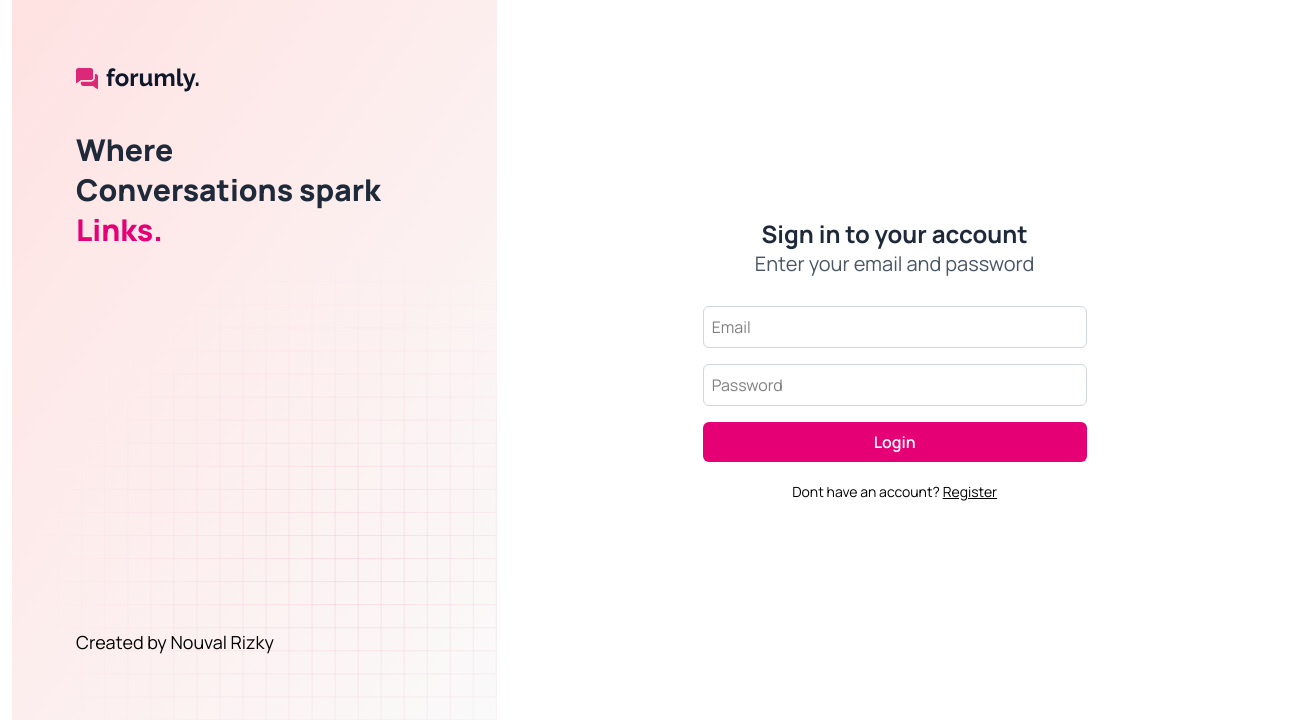
Test: Login spec › should display error message when email format is not valid
The image size is (1292, 720).
Step 1. Type "not valid mail" into the field with placeholder "Email" → point(895, 327), box [703,306,1087,348]
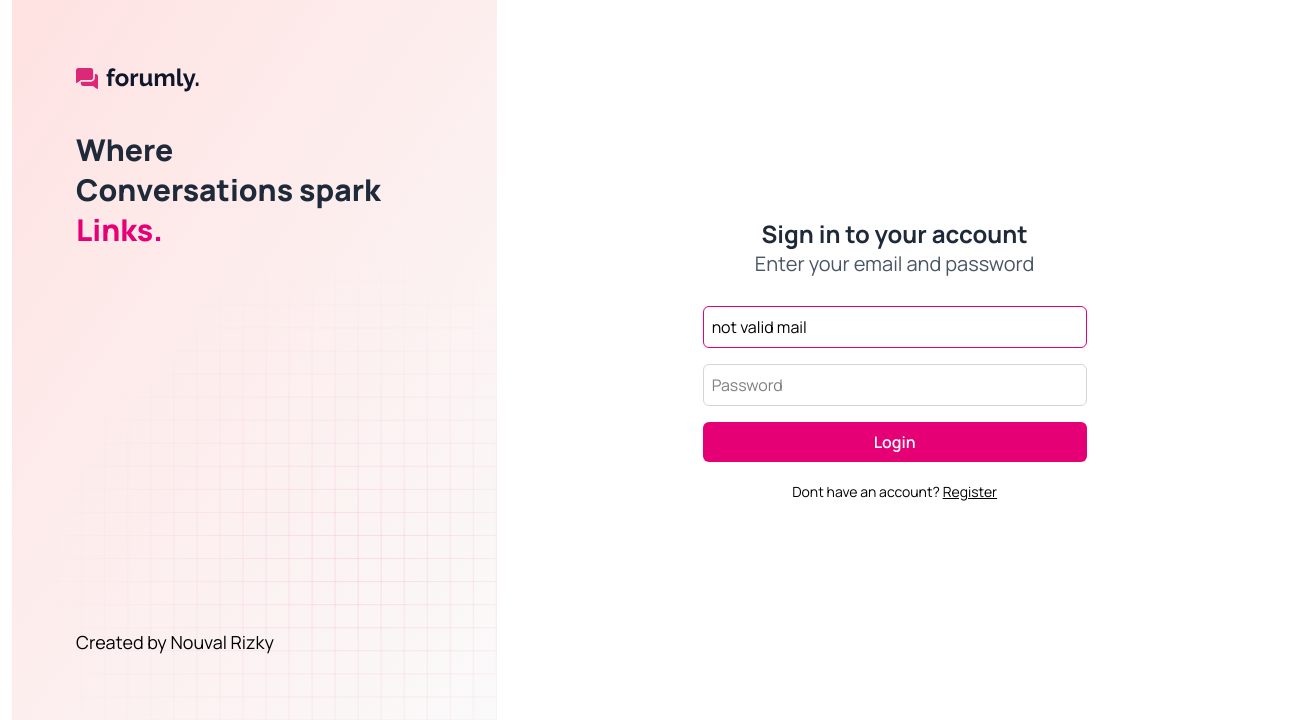
Step 2. Click the button "Login" → point(895, 442), box [703,422,1087,462]
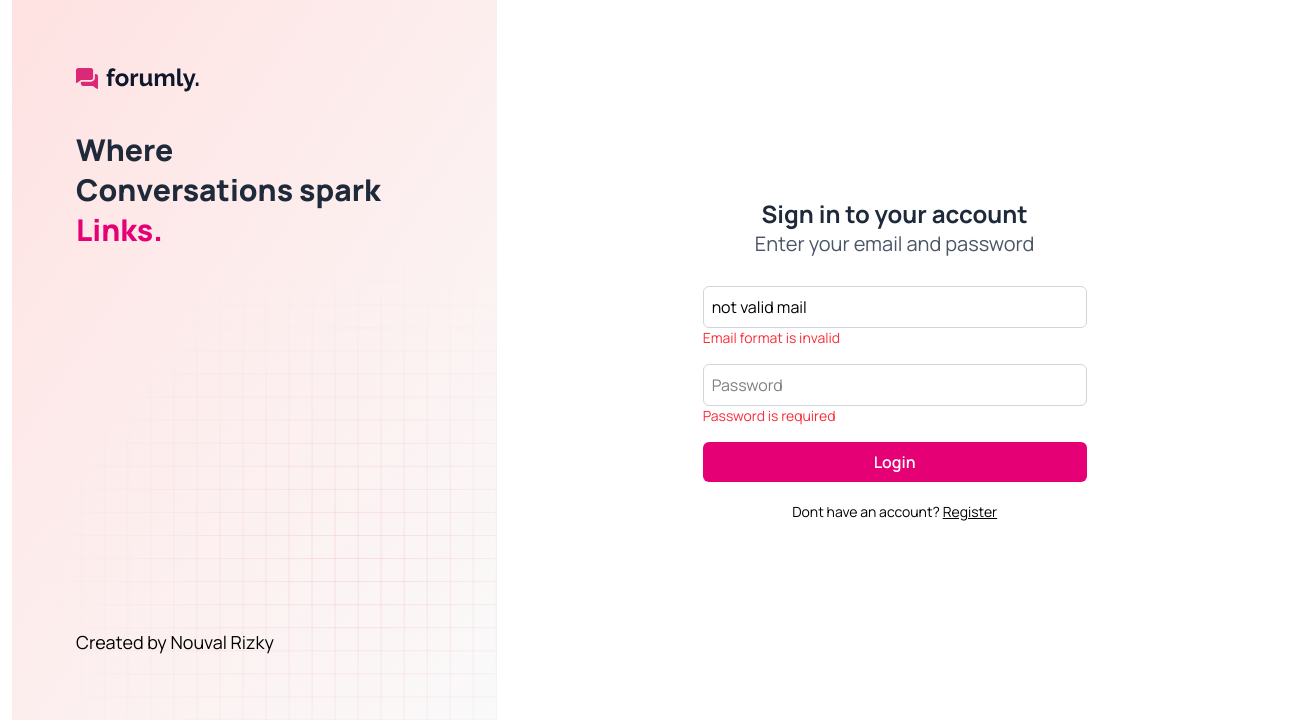
Result: the text "Email format is invalid" is shown at [703,328,840,347]
